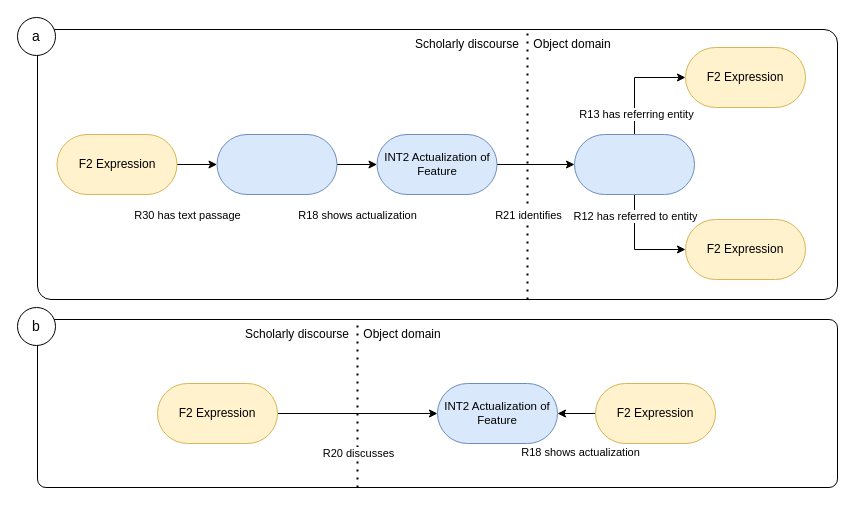
This 855x507 diagram has some shape labels left out. Here are the shapes that lost their labels. From the top down, the centre of each, then its label:
At (276,164): "INT21 Text Passage".
At (634,164): "INT31 Intertextual Relation".
